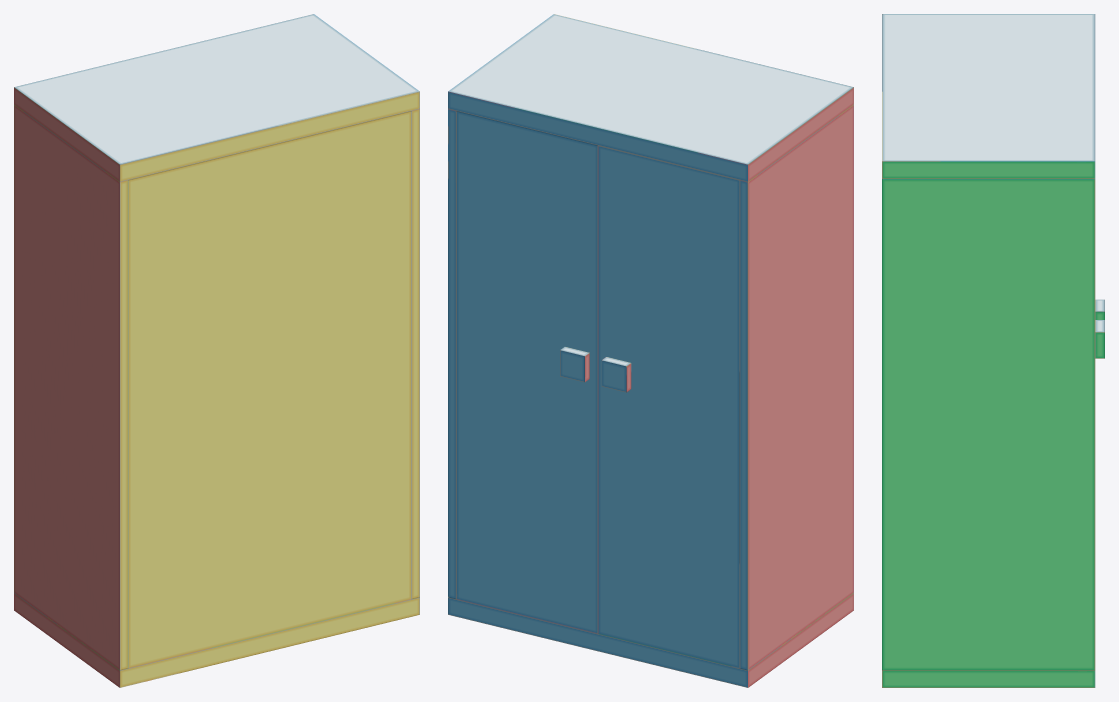
The model's file is Armario.fbx.
The picture shows the model from 3 angles, left to right: view 1: azimuth 30°, elevation 25°; view 2: azimuth 150°, elevation 25°; view 3: azimuth 270°, elevation 25°; orthographic projection.
Parts seen in each view (by area): view 1: cube_3, cube_1, cube_4, cube, cube_2; view 2: cube_6, cube_5, cube_1, cube_4, cube, cube_2, cube_7, cube_8; view 3: cube_2, cube_4, cube, cube_8.
Boxes of the visible parts, x1,y1,x2,y2 form: cube_3: (128, 111, 411, 668); cube_1: (14, 105, 128, 670); cube_4: (14, 14, 419, 181); cube: (14, 593, 419, 687); cube_2: (411, 109, 419, 598); cube_6: (456, 111, 597, 633); cube_5: (598, 145, 739, 668); cube_1: (739, 105, 853, 670); cube_4: (448, 14, 853, 181); cube: (448, 593, 853, 687); cube_2: (448, 109, 456, 598); cube_7: (601, 357, 631, 392); cube_8: (560, 347, 589, 382); cube_2: (882, 179, 1095, 670); cube_4: (882, 14, 1095, 178); cube: (882, 670, 1095, 687); cube_8: (1095, 320, 1104, 358).
Bounding box in the file's own units: 225 × 375 × 144.
Materials: 1 (1 with a texture image).
